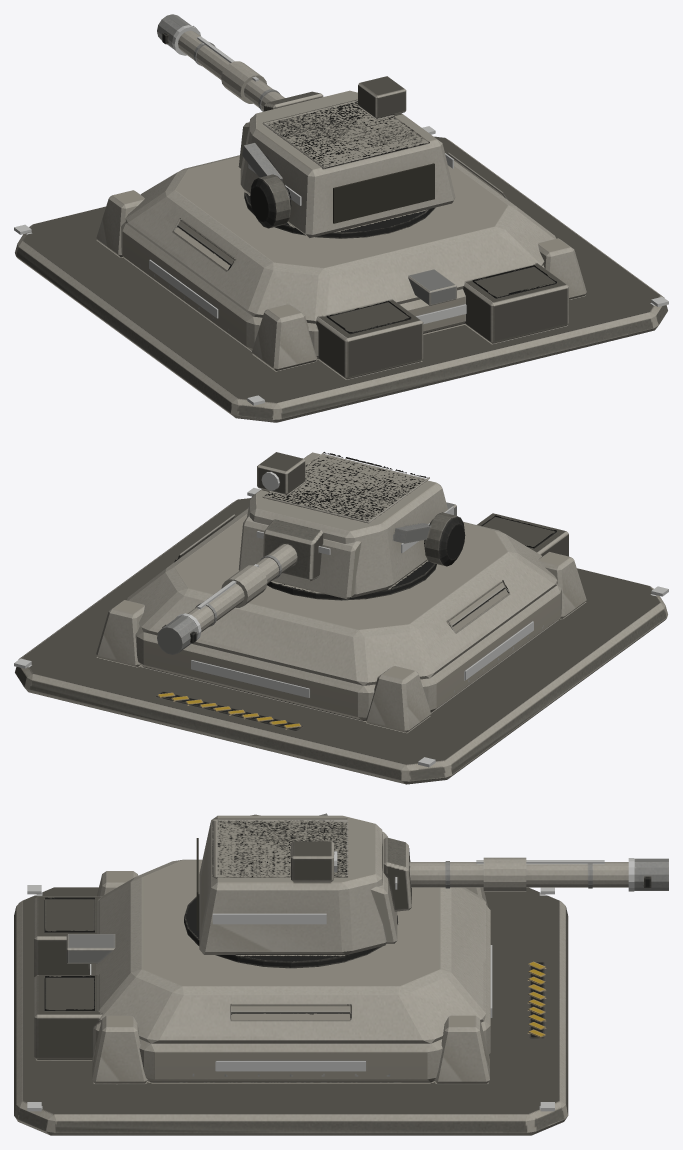
File: ord_bulwark.fbx
3 renders of one model, top to bottom at view 1: azimuth 30°, elevation 25°; view 2: azimuth 150°, elevation 25°; view 3: azimuth 270°, elevation 25°, orthographic. The views are drawn at different scales.
Parts seen in each view (by area): view 1: base_bar, turret_bar, base_glow_running_bar; view 2: base_bar, turret_bar, base_glow_running_bar, base_glow_power_bar, turret_glow_weapon_bar; view 3: base_bar, turret_bar, base_glow_running_bar, turret_glow_running_bar, turret_glow_weapon_bar.
Part boxes in pixels (bbox=[...]): base_bar: bbox=[15, 136, 667, 422]; turret_bar: bbox=[157, 14, 455, 237]; base_glow_running_bar: bbox=[14, 126, 668, 405]; base_bar: bbox=[15, 498, 667, 784]; turret_bar: bbox=[157, 452, 465, 654]; base_glow_running_bar: bbox=[14, 488, 668, 767]; base_glow_power_bar: bbox=[191, 660, 309, 697]; turret_glow_weapon_bar: bbox=[175, 531, 330, 639]; base_bar: bbox=[14, 859, 568, 1135]; turret_bar: bbox=[196, 813, 668, 954]; base_glow_running_bar: bbox=[27, 885, 554, 1111]; turret_glow_running_bar: bbox=[212, 851, 337, 924]; turret_glow_weapon_bar: bbox=[395, 858, 634, 891].
Size of the model in its own units: 1555 by 815 by 1837.
Materials: 2 (2 with a texture image).
